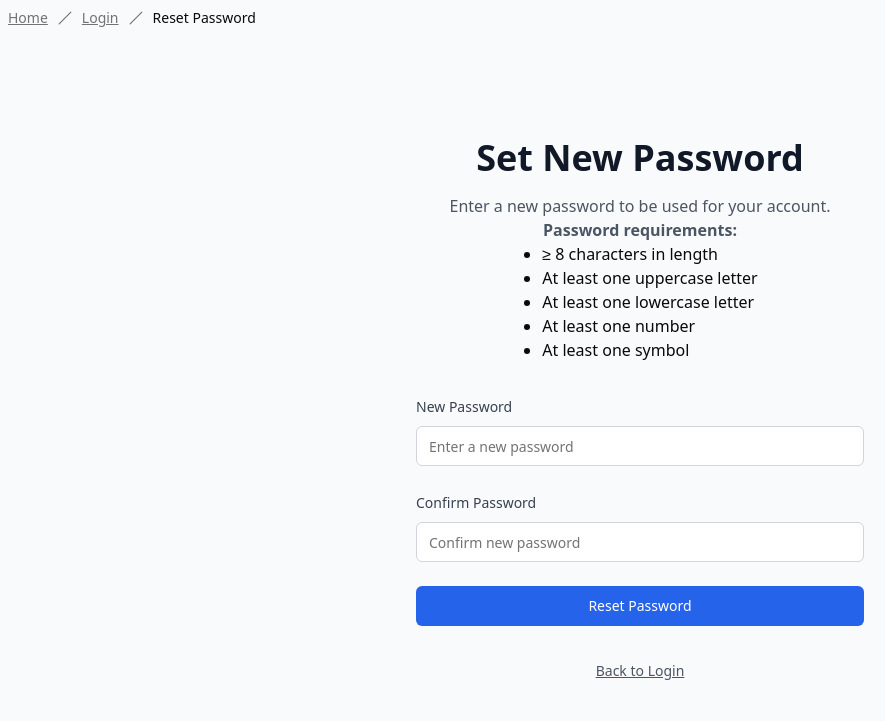
Reset Password › displays error messages when password/confirm password not provided
# Click "reset passsword" button without inputting anything
Click the button "Reset Password".
click(640, 606)  # box [416,586,864,626]
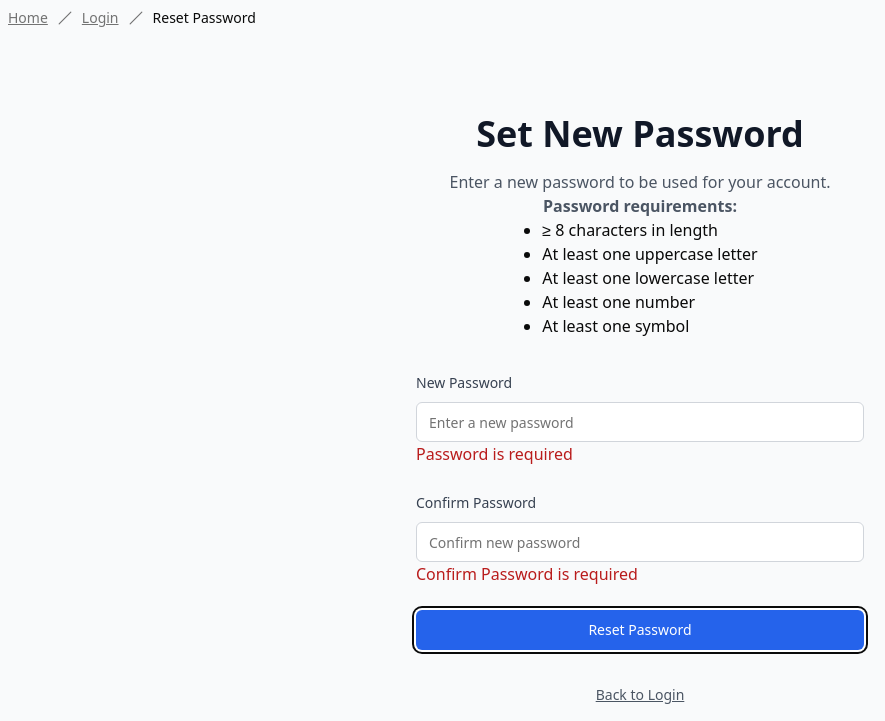
Expected: the number of messages is 2, [416,443,573,465]; [416,563,638,585]
Expected: the text "Password is required" is shown, [416,443,573,465]
Expected: the text "Confirm Password is required" is shown, [416,563,638,585]
